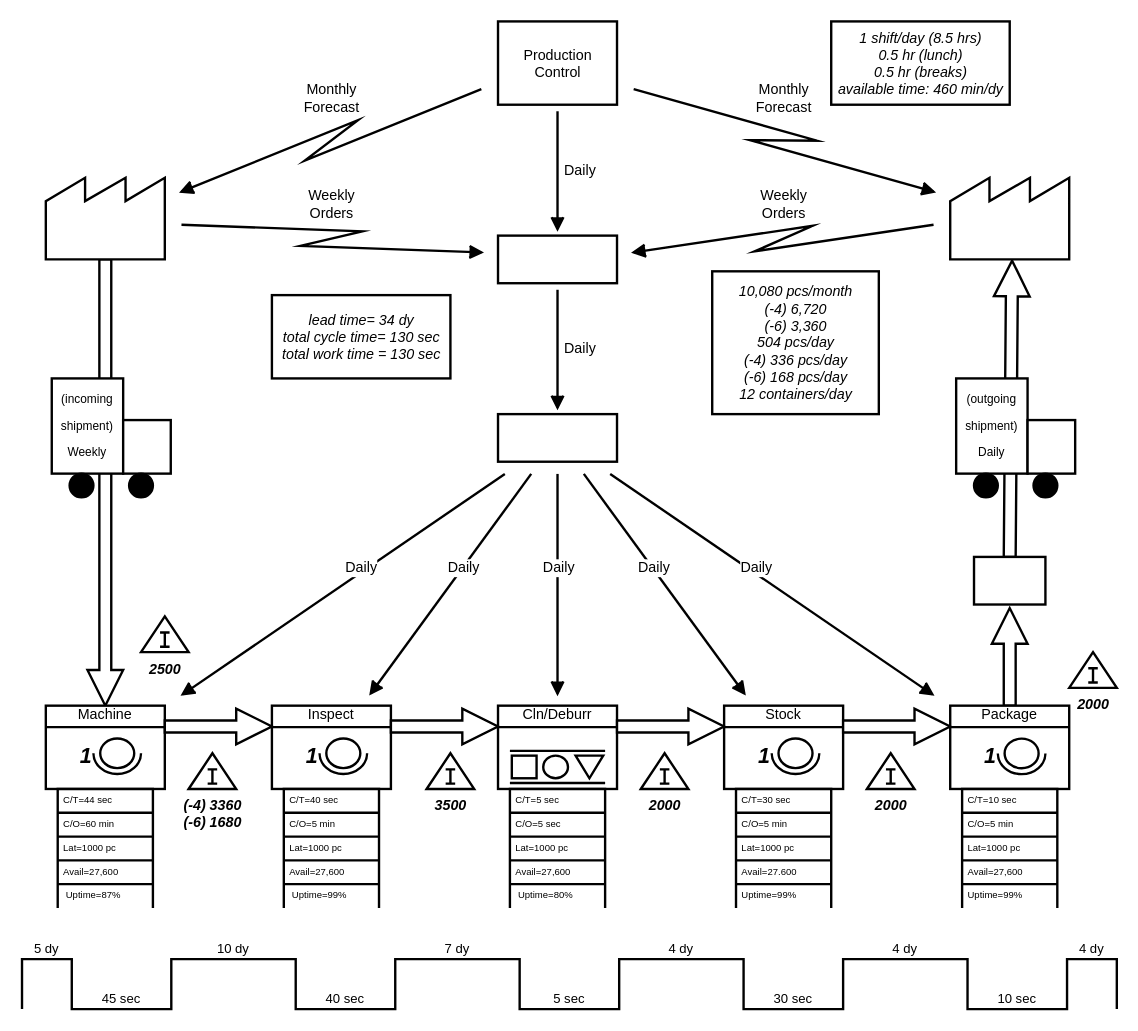
This 1138x1031 diagram has some shape labels left out. The centre of each missing label's shape, as x and y in pixels:
Customer: the point at 1009,217
MAX=12: the point at 557,756
Production Plan: the point at 557,259
Production Supervisor: the point at 557,437
Ship: the point at 1009,580
Supplier: the point at 104,217
